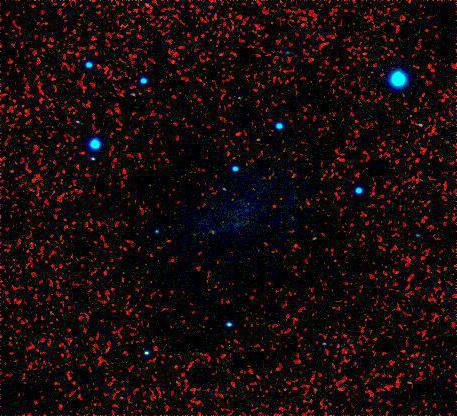star: (196, 224, 226, 254)
